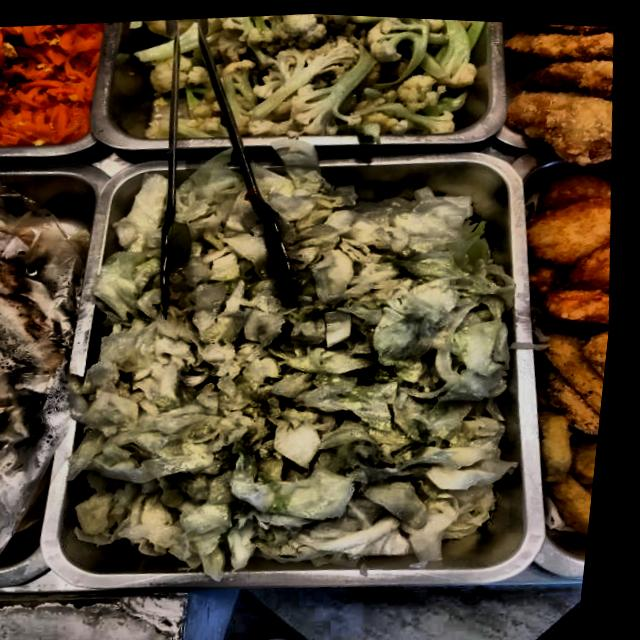Food: (105, 160, 513, 549), (0, 19, 90, 140), (543, 181, 624, 302)
